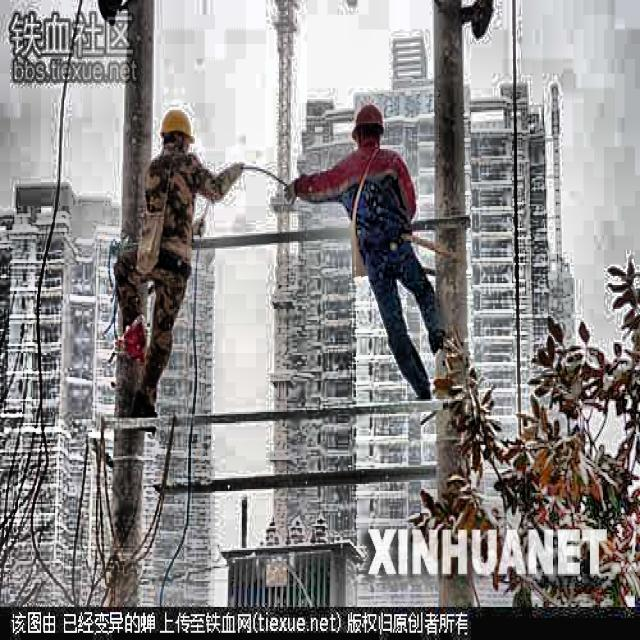helmet: (157, 105, 196, 165), (351, 98, 386, 158)
